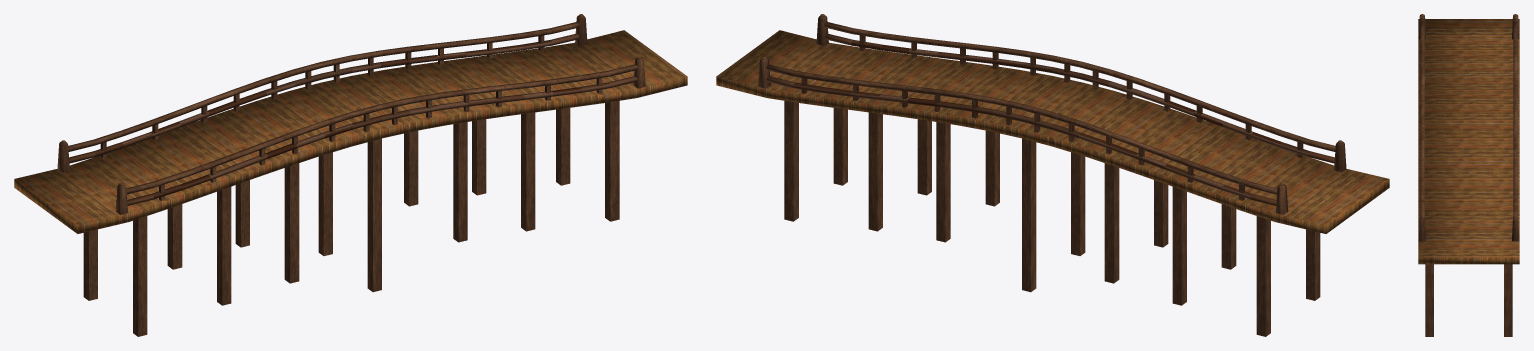
Rendered from bridge.glb.
3 renders of one model, left to right at view 1: azimuth 30°, elevation 25°; view 2: azimuth 150°, elevation 25°; view 3: azimuth 270°, elevation 25°, orthographic. The views are drawn at different scales.
Visible parts, largest first — view 1: Cube, Cube.002, Cube.012, Cube.003, Cube.004, Cube.005, Cube.001, Cube.007; view 2: Cube, Cube.002, Cube.012, Cube.003, Cube.004, Cube.005, Cube.001, Cube.007; view 3: Cube, Cube.002, Cube.003, Cube.007.
Part boxes in pixels (box(x1,y1,x2,y2)): Cube: box(14, 30, 687, 233); Cube.002: box(68, 22, 637, 194); Cube.012: box(69, 33, 637, 205); Cube.003: box(83, 101, 619, 336); Cube.004: box(235, 122, 467, 283); Cube.005: box(167, 112, 535, 305); Cube.001: box(318, 138, 381, 292); Cube.007: box(57, 15, 645, 214); Cube: box(716, 30, 1389, 233); Cube.002: box(766, 22, 1335, 194); Cube.012: box(766, 33, 1334, 205); Cube.003: box(784, 101, 1320, 336); Cube.004: box(936, 122, 1168, 283); Cube.005: box(868, 112, 1236, 305); Cube.001: box(1022, 138, 1085, 292); Cube.007: box(758, 15, 1346, 214); Cube: box(1418, 19, 1519, 264); Cube.002: box(1420, 21, 1517, 216); Cube.003: box(1425, 264, 1512, 336); Cube.007: box(1418, 14, 1519, 241).
Bounding box in the file's own units: 100 × 29.27 × 18.
4 materials, 4 textured.
